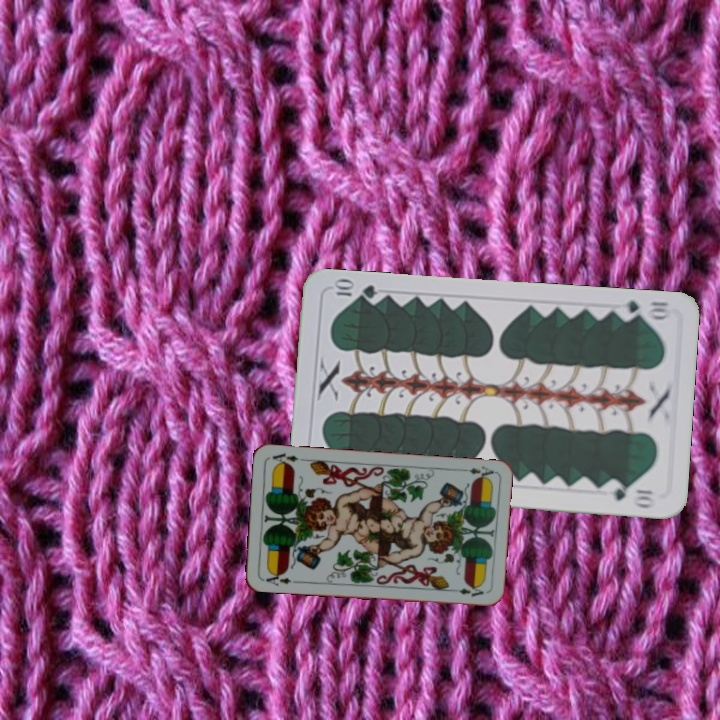EA: (456, 462, 496, 482), (259, 568, 293, 588)
G10: (614, 296, 674, 324)
